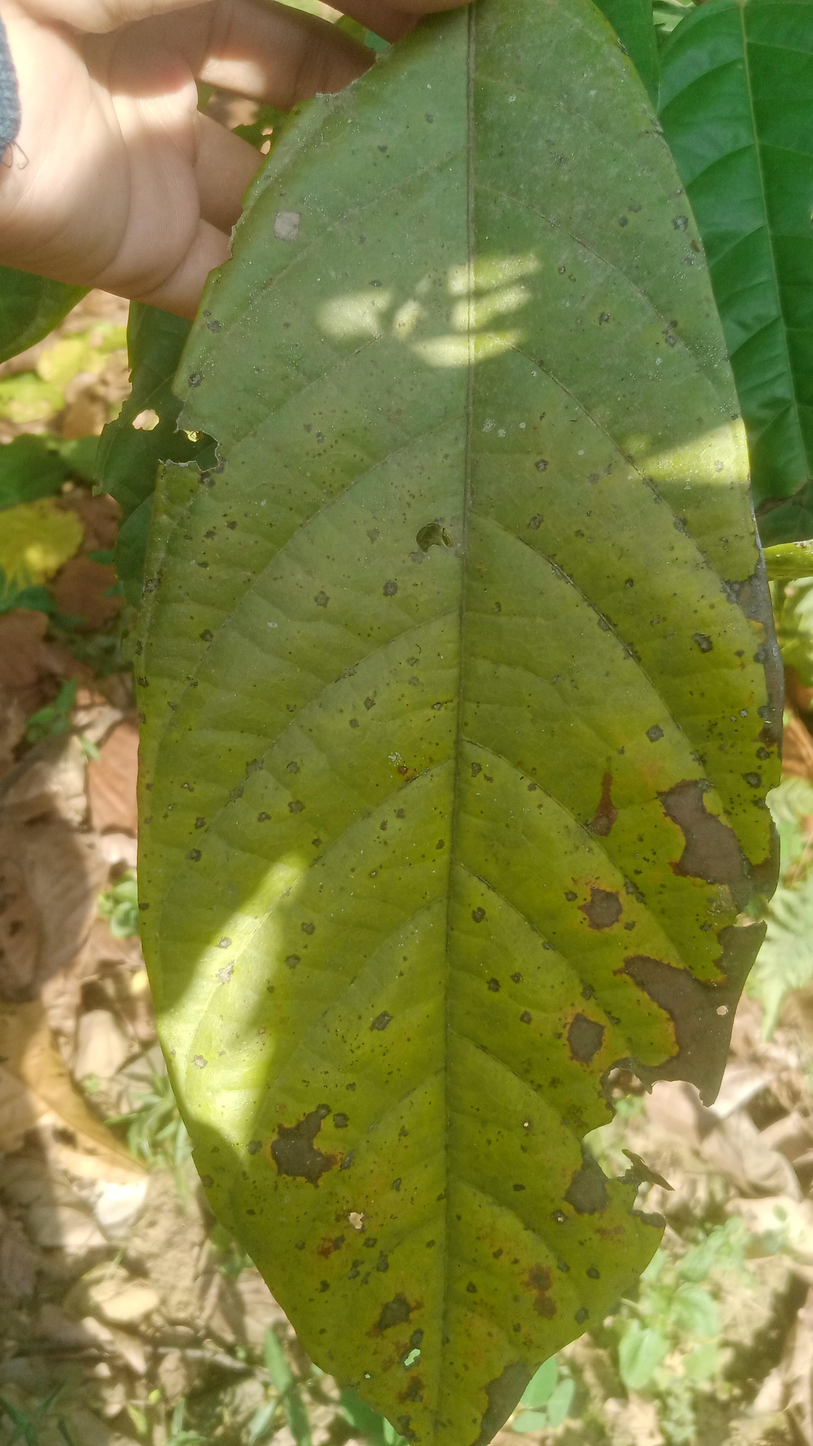deficiencia_potasio: (117, 0, 779, 1446)
